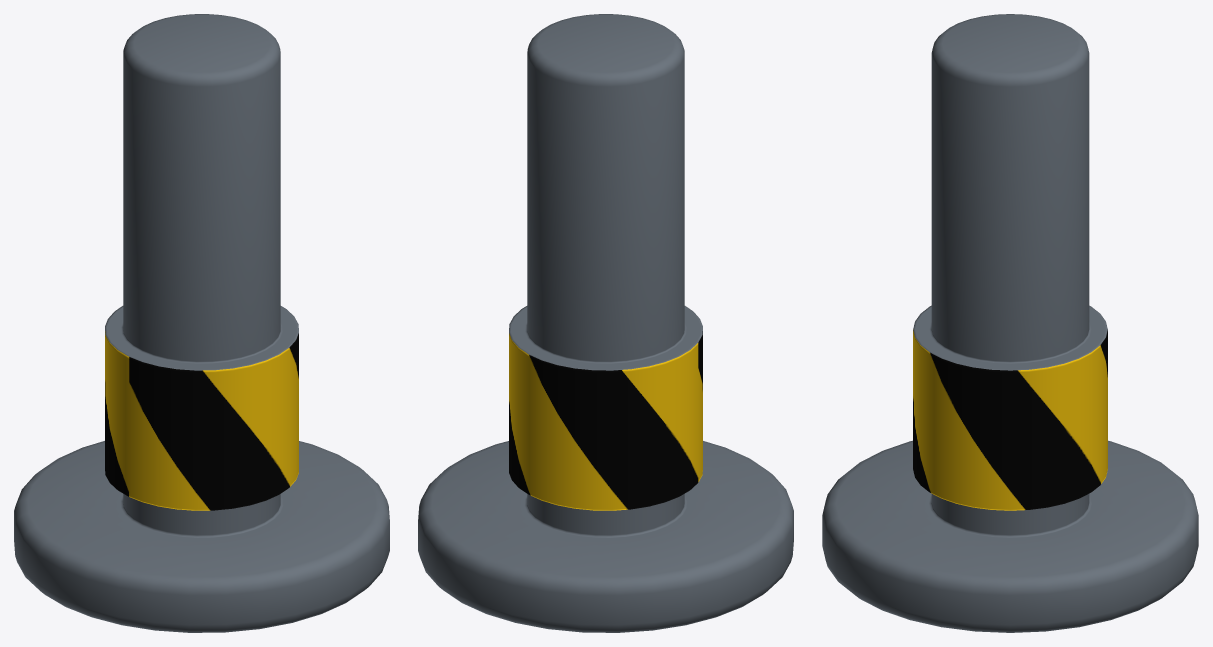
The model's file is PressNo1.fbx.
3 views of the same model, side by side, from view 1: azimuth 30°, elevation 25°; view 2: azimuth 150°, elevation 25°; view 3: azimuth 270°, elevation 25° (orthographic).
Visible parts, largest first — view 1: Cylinder.004, Flat Head; view 2: Cylinder.004, Flat Head; view 3: Cylinder.004, Flat Head.
Part boxes in pixels (x1=…): Cylinder.004: x1=105, y1=14, x2=298, y2=510; Flat Head: x1=14, y1=441, x2=389, y2=632; Cylinder.004: x1=509, y1=14, x2=702, y2=510; Flat Head: x1=418, y1=441, x2=793, y2=632; Cylinder.004: x1=913, y1=14, x2=1107, y2=510; Flat Head: x1=822, y1=440, x2=1198, y2=632.
Bounding box in the file's own units: 242 × 365 × 242.
2 materials, 1 textured.
